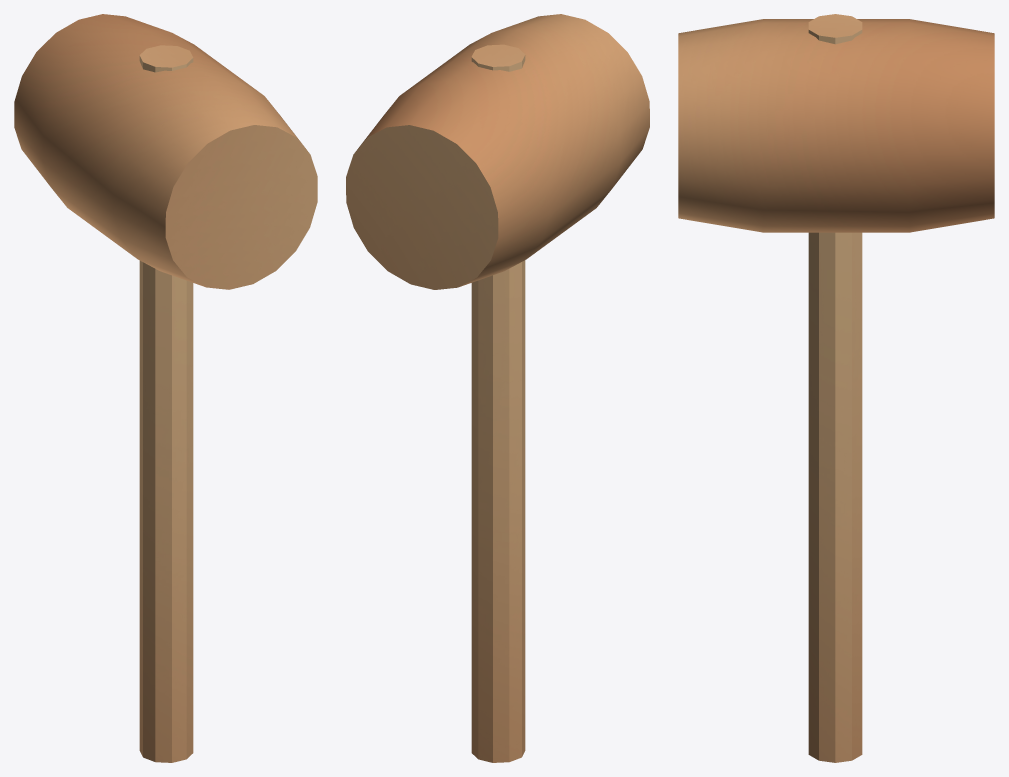
The model's file is MattHammer.fbx.
3 views of the same model, side by side, from view 1: azimuth 30°, elevation 25°; view 2: azimuth 150°, elevation 25°; view 3: azimuth 270°, elevation 25° (orthographic). The views are drawn at different scales.
Visible parts, largest first — view 1: Matt_Hammer; view 2: Matt_Hammer; view 3: Matt_Hammer.
Part boxes in pixels (x1,y1,x2,y2): Matt_Hammer: (14, 14, 317, 762); Matt_Hammer: (346, 14, 649, 762); Matt_Hammer: (678, 14, 994, 762).
Bounding box in the file's own units: 54.96 × 209 × 82.35.
